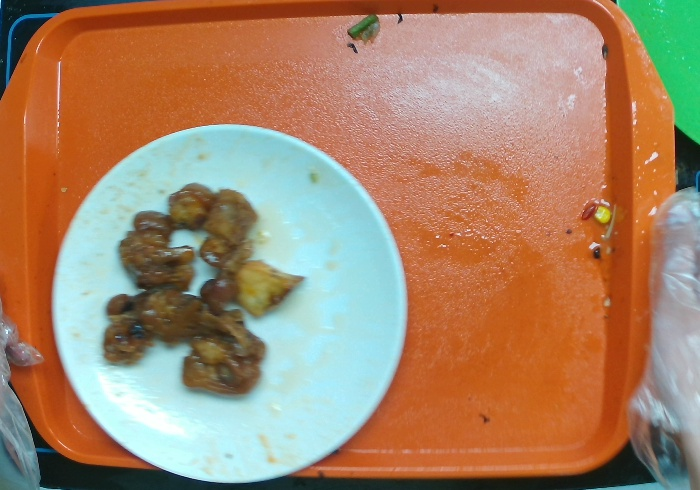HZYJPL-Bai_Se_Yuan_Pan: (48, 121, 409, 484)
